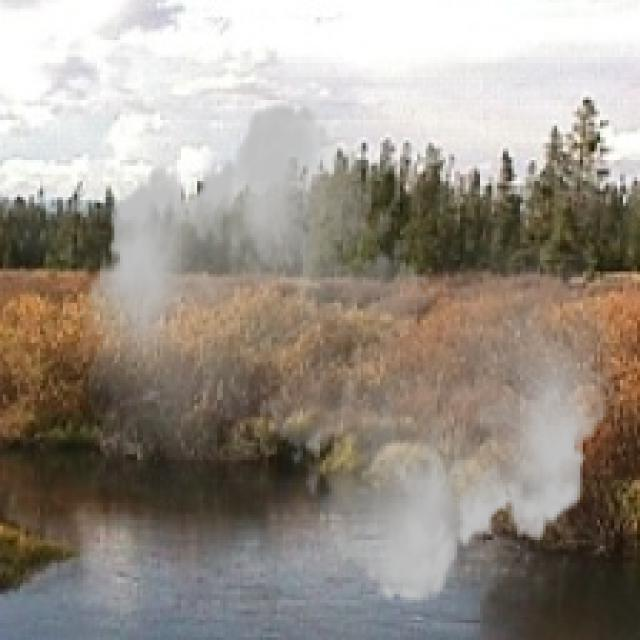Smoke: (80, 85, 614, 620)
